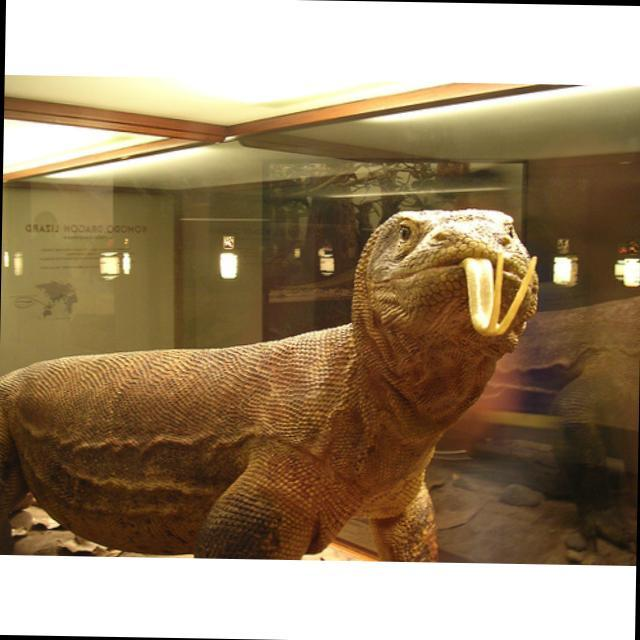KomodoDragon: (0, 197, 539, 560)
